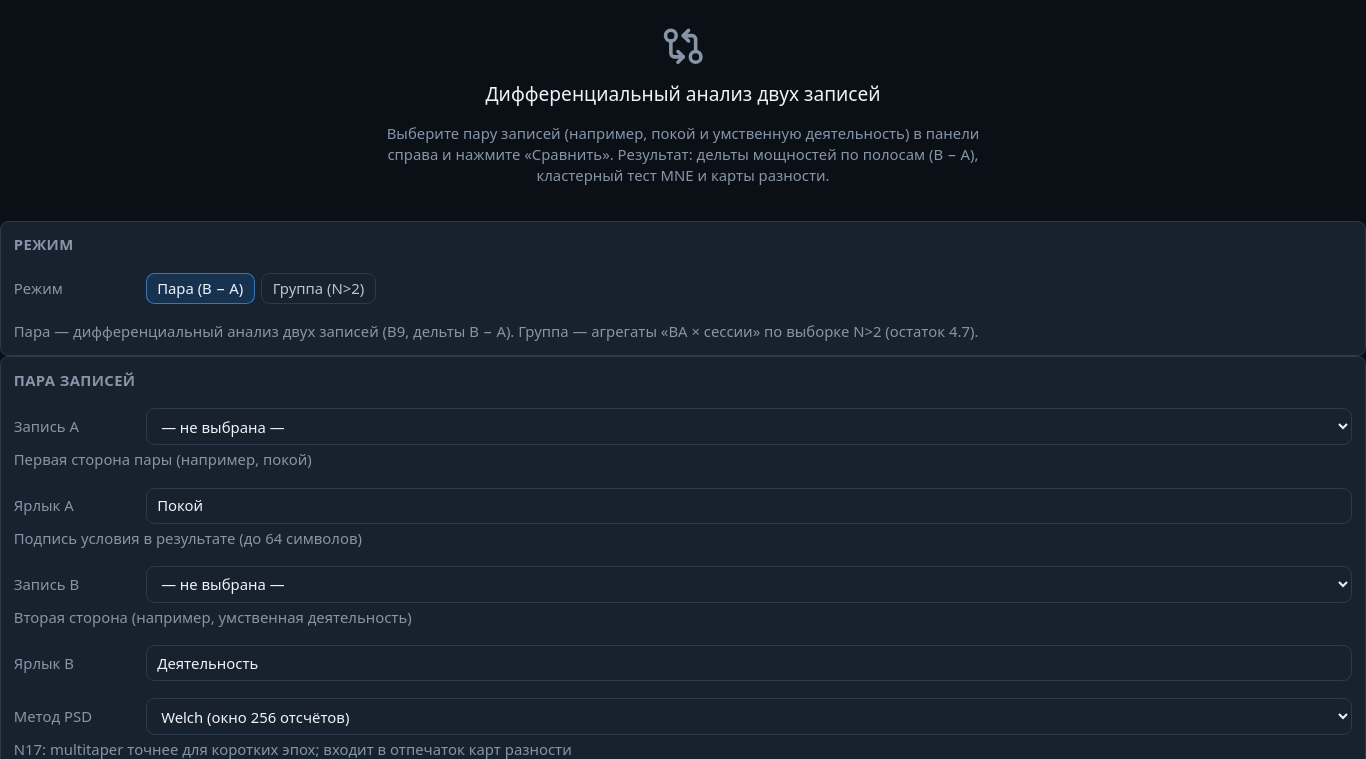
Test: режим «Группа (N>2)» › переключатель режима показывает участников и фильтры
Expected: the text "Пара записей" is shown, [14, 370, 136, 390]
What coordinates should you click on to do the following:
click the button "Группа (N>2)"
I would click on:
 (318, 288)
Its box is [261, 272, 376, 304].
(page scrolled)
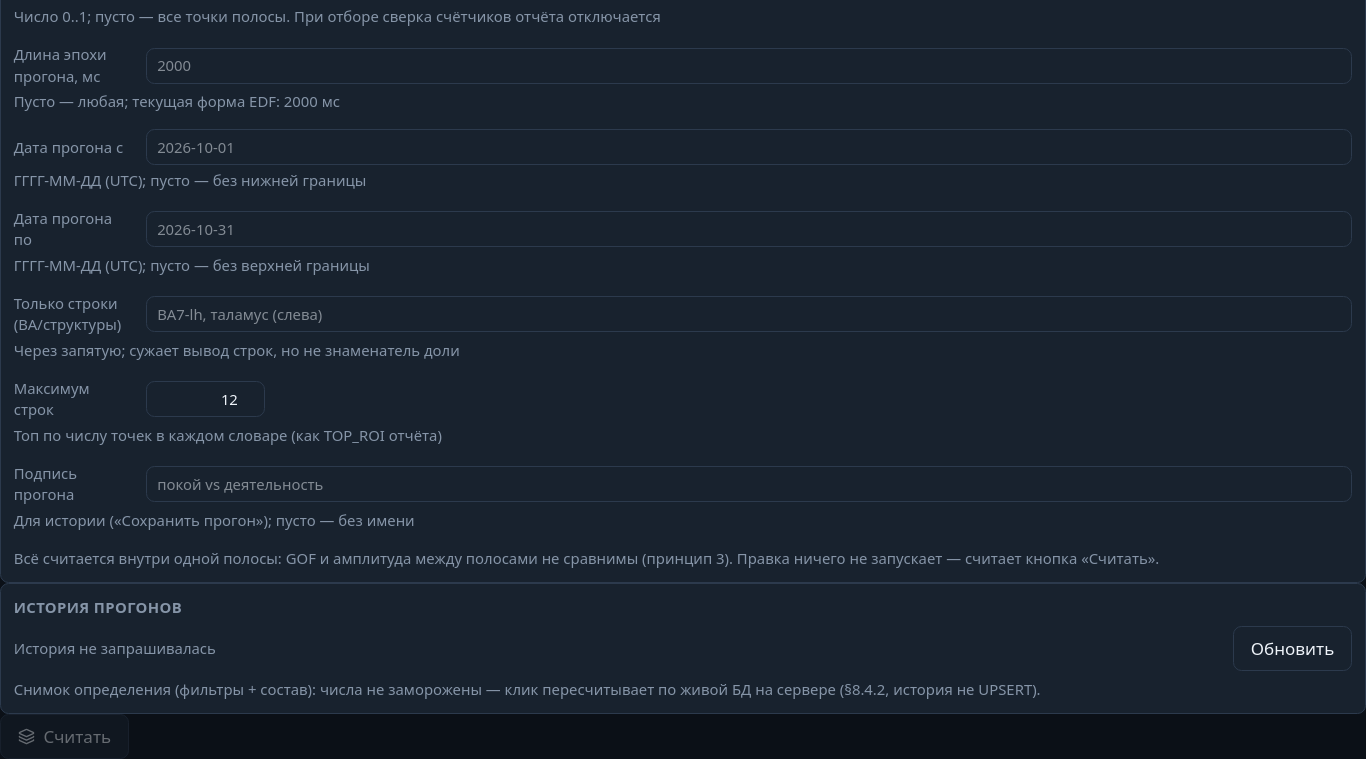
Expected: the text "История прогонов" is shown, [14, 597, 182, 617]
